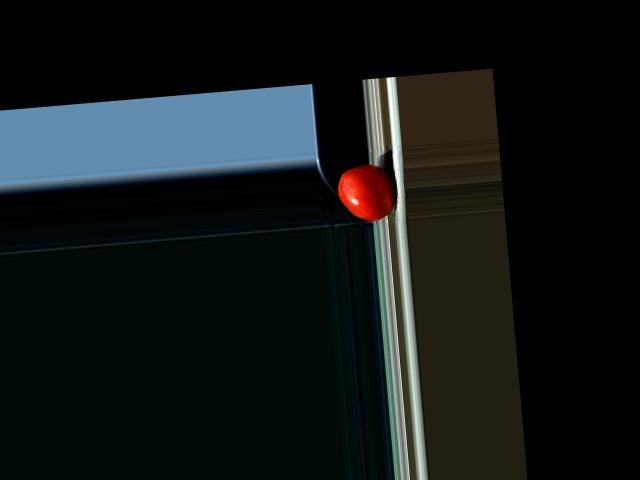tomato: (335, 162, 396, 223)
